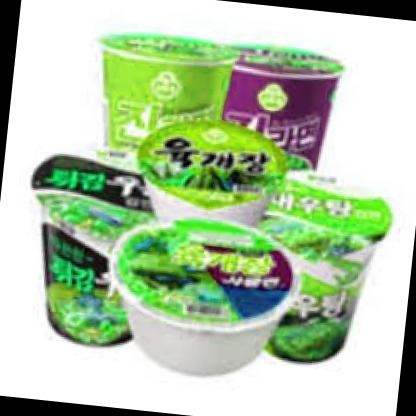Ramen: (102, 211, 310, 384), (246, 159, 406, 373), (35, 142, 171, 354), (85, 29, 242, 190), (206, 40, 354, 199), (132, 113, 295, 246)
